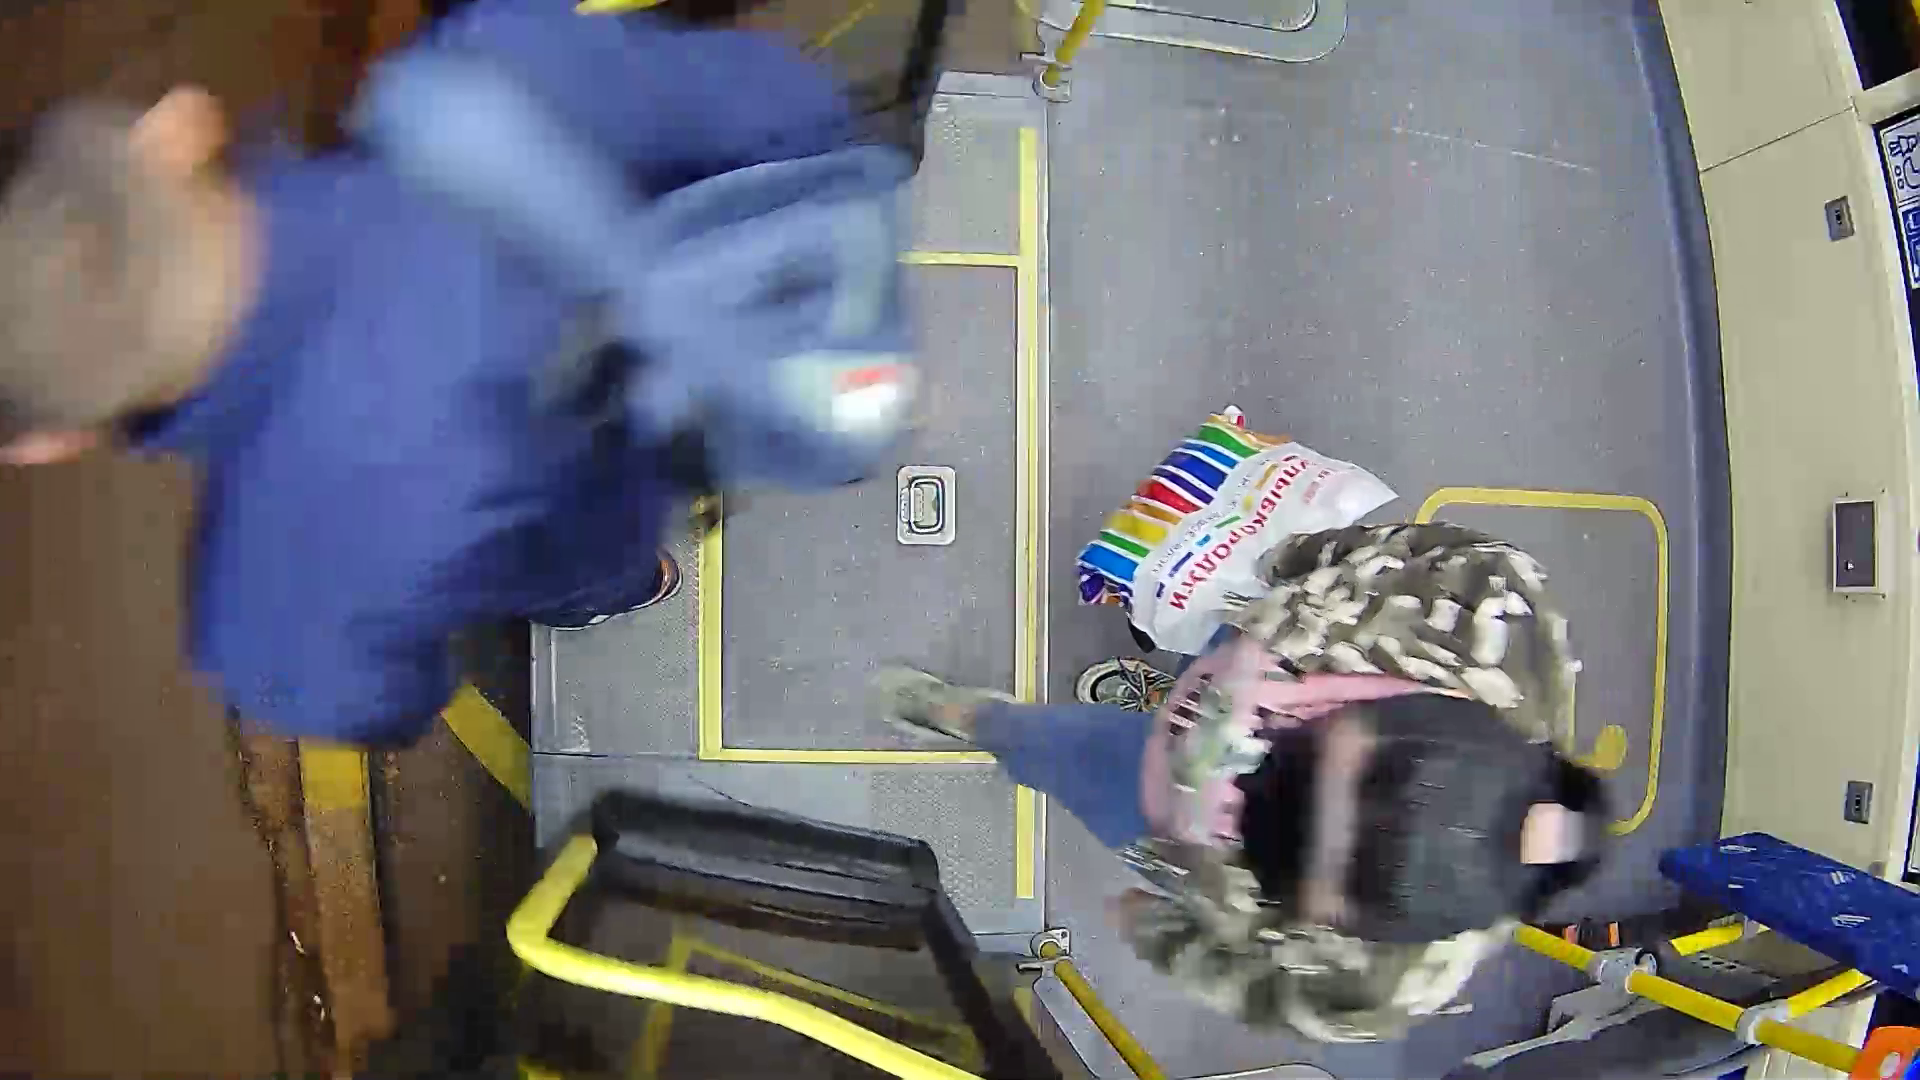person: (25, 58, 946, 691), (979, 400, 1732, 1037)
